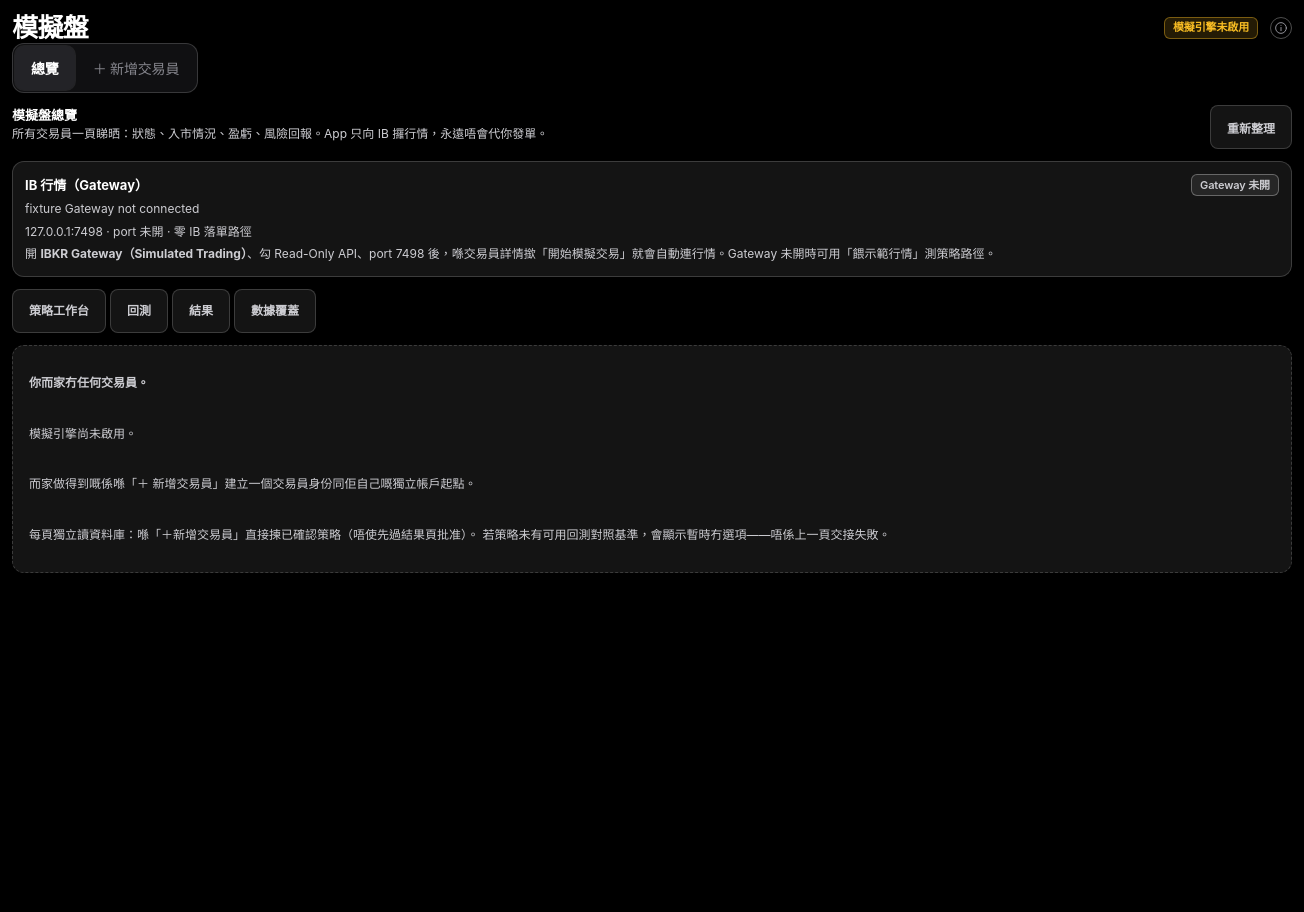
Test: P6 Stage A — page identity and honest defaults › guides to the strategies page when confirmed store is empty
The image size is (1304, 912).
Click the tab "＋ 新增交易員" at (136, 68), box top-left (77, 46), bottom-right (195, 90)
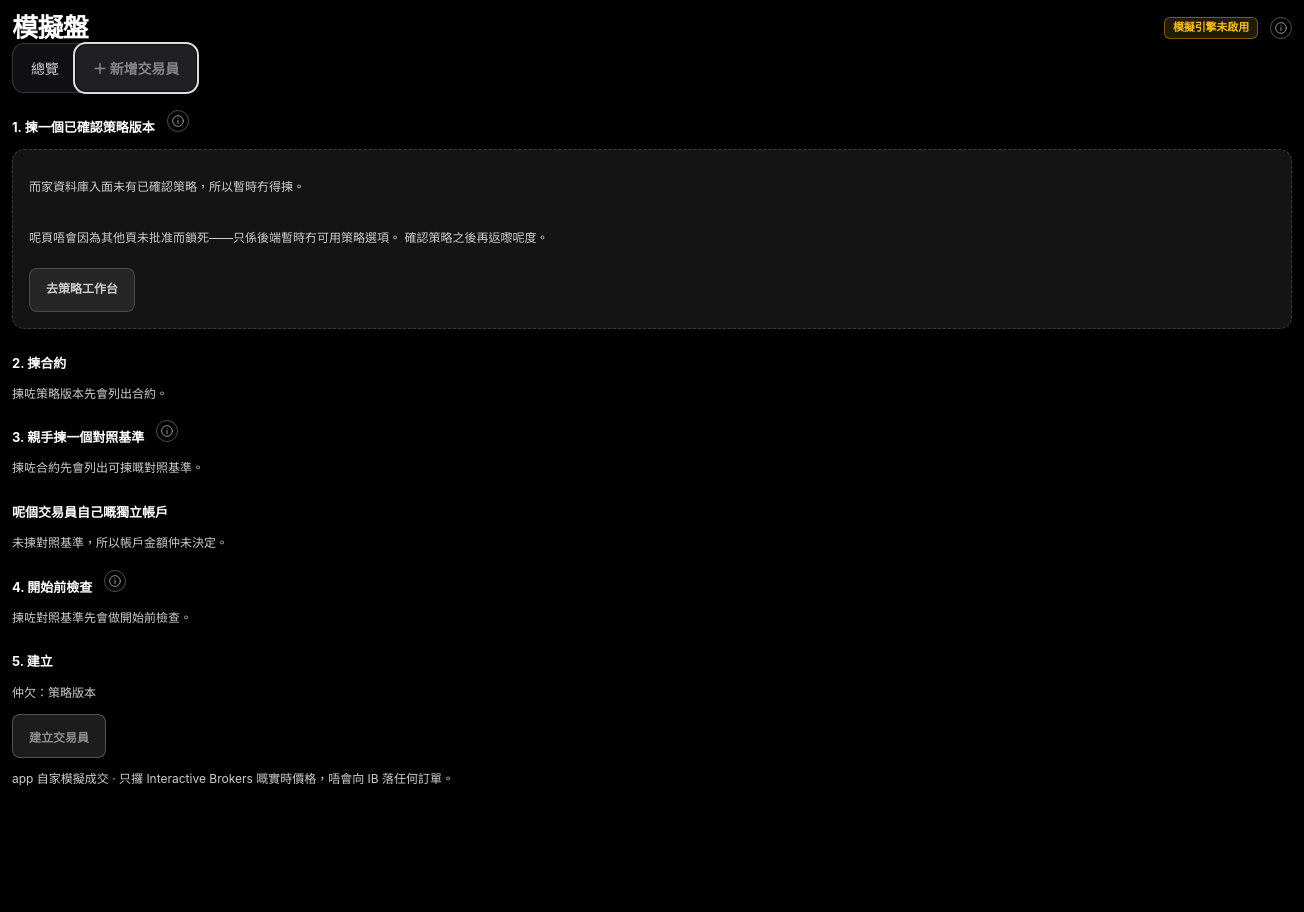
Now the text "而家資料庫入面未有已確認策略，所以暫時冇得揀。" is shown, box top-left (29, 178), bottom-right (305, 197)
